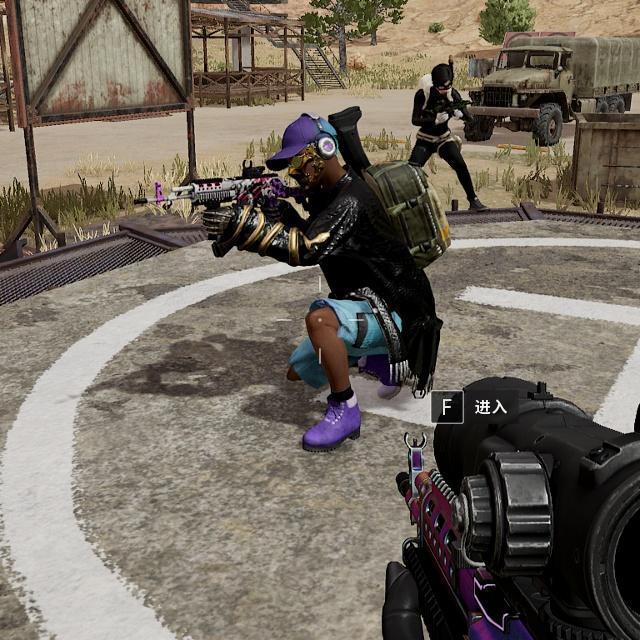head: (263, 109, 352, 199), (426, 61, 460, 97)
people: (194, 103, 440, 452), (411, 59, 491, 224)
